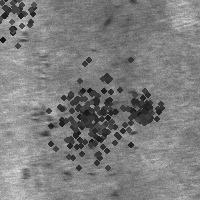rolled-in_scale: (40, 48, 156, 164), (34, 69, 126, 161), (46, 91, 134, 179), (20, 28, 68, 182), (97, 85, 147, 140), (0, 0, 45, 46), (122, 89, 162, 129)
